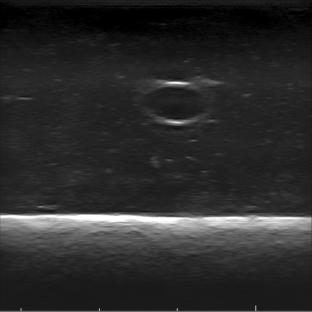vessel: (139, 81, 209, 126)
